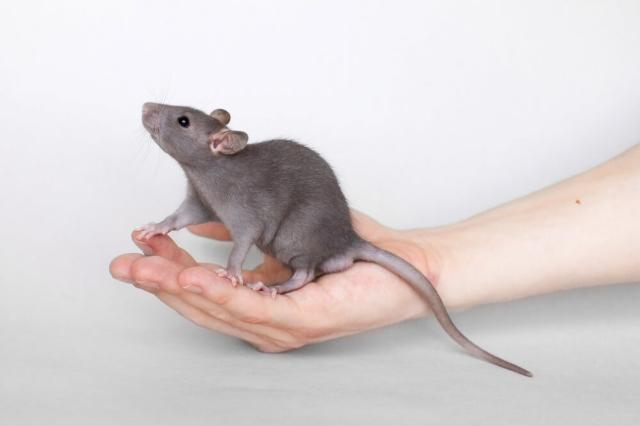rat: (117, 91, 376, 299)
